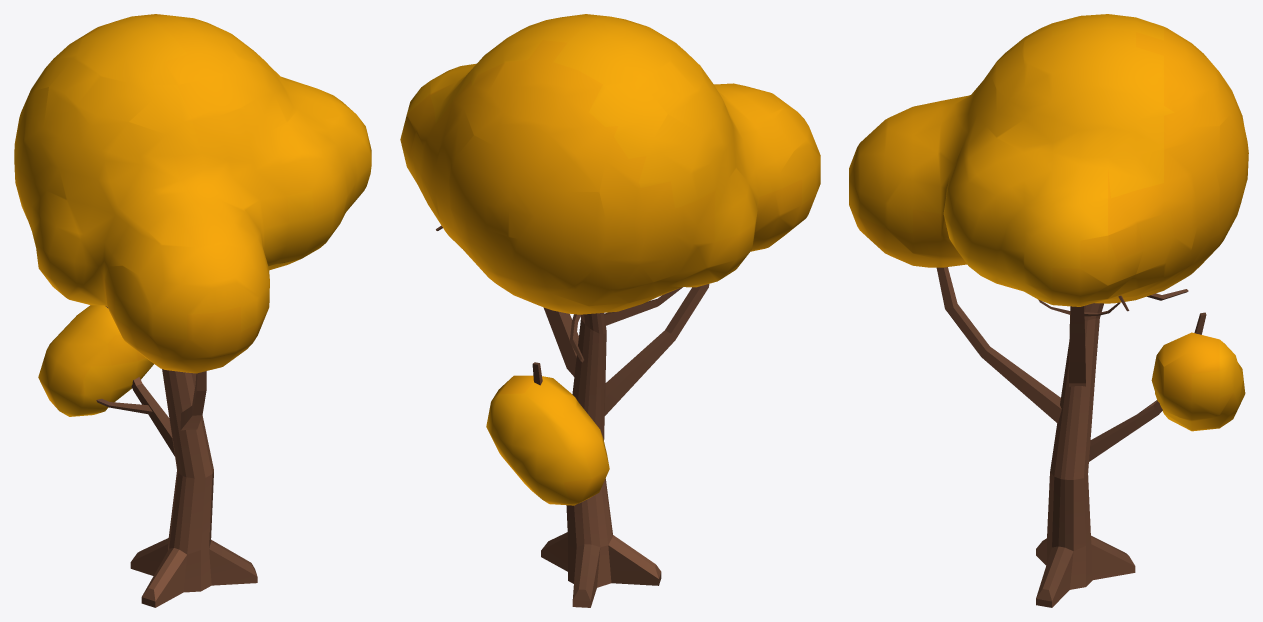
The model's file is tree.glb.
The picture shows the model from 3 angles, left to right: view 1: azimuth 30°, elevation 25°; view 2: azimuth 150°, elevation 25°; view 3: azimuth 270°, elevation 25°; orthographic projection. The views are drawn at different scales.
Visible parts, largest first — view 1: Mball.002, _11_tree__11_tree_0; view 2: Mball.002, _11_tree__11_tree_0; view 3: Mball.002, _11_tree__11_tree_0.
Part boxes in pixels (x1,y1,x2,y2): Mball.002: (14, 14, 371, 416); _11_tree__11_tree_0: (96, 306, 257, 607); Mball.002: (400, 14, 820, 505); _11_tree__11_tree_0: (436, 225, 709, 607); Mball.002: (849, 14, 1248, 431); _11_tree__11_tree_0: (936, 267, 1206, 607).
Bounding box in the file's own units: 1.45 × 2.33 × 1.55.
1 material, 1 textured.
